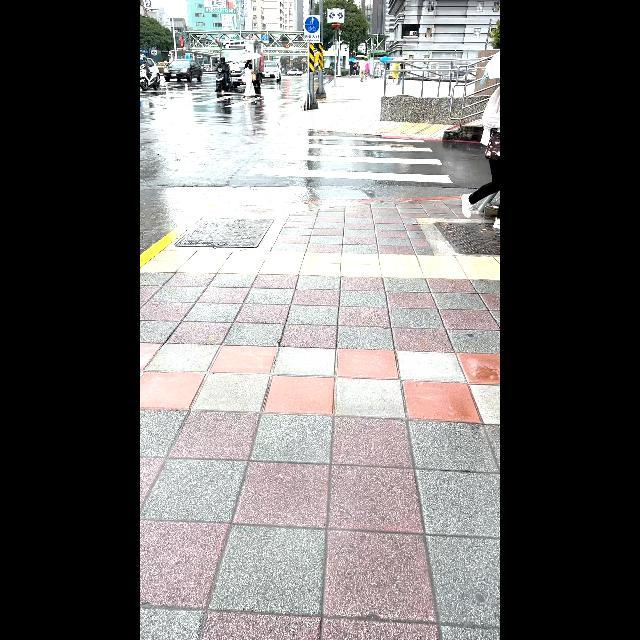sidewalk: (199, 132, 459, 204)
